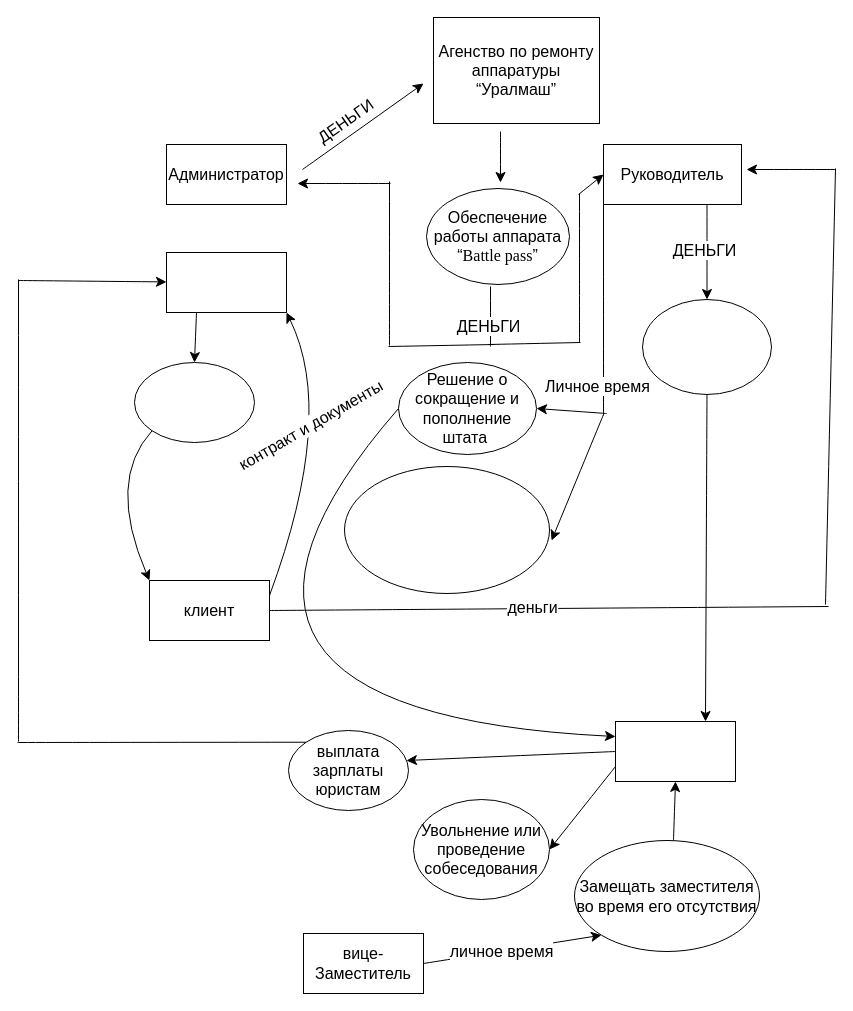
This 853x1011 diagram has some shape labels left out. The shapes that lost their labels are listed below. From the top down, each one's centre as x and y in pixels, then its label:
(x=226, y=282): Юрист
(x=707, y=346): начисление зарплаты заместителю
(x=194, y=402): оказание юр. услуг
(x=447, y=530): решение связанные с определением своей заработной платы
(x=675, y=751): Заместитель
